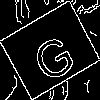G: (25, 25, 79, 85)
